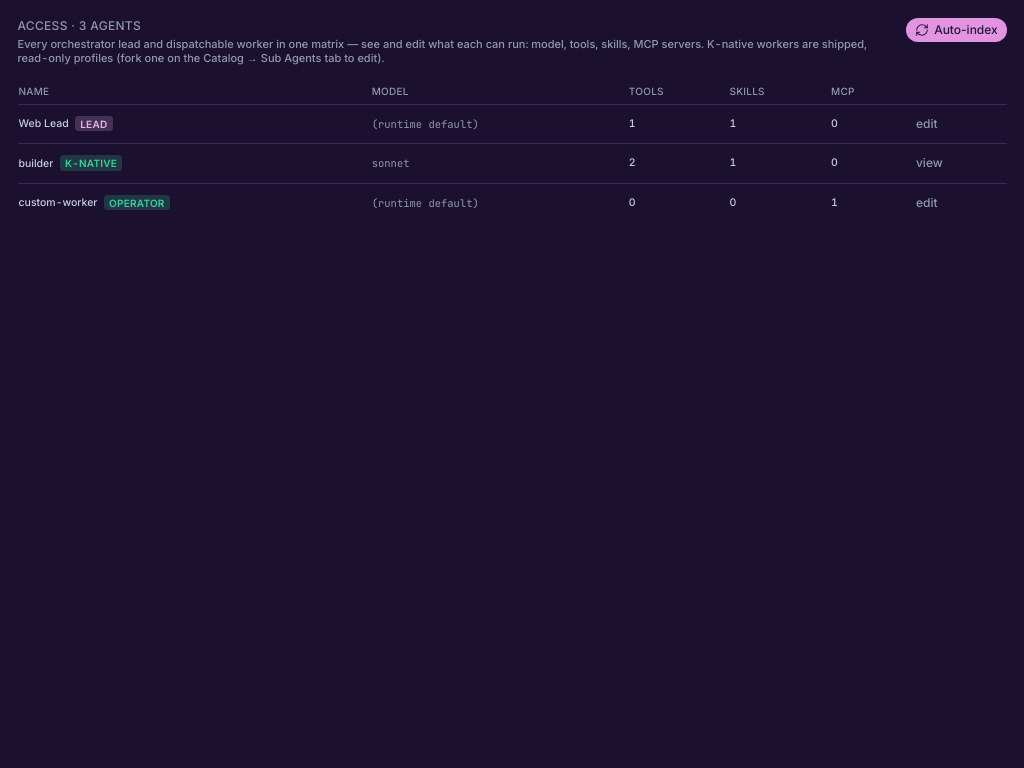
Test: AccessPage — expandable inline editor for an operator worker row › expanding shows the model Select + Skills/MCP pickers + Tools chip field, pre-filled
The width and height of the screenshot is (1024, 768).
Click the button with test id "access-expand-op-1" at point(927, 203), box 907,190 -> 946,215
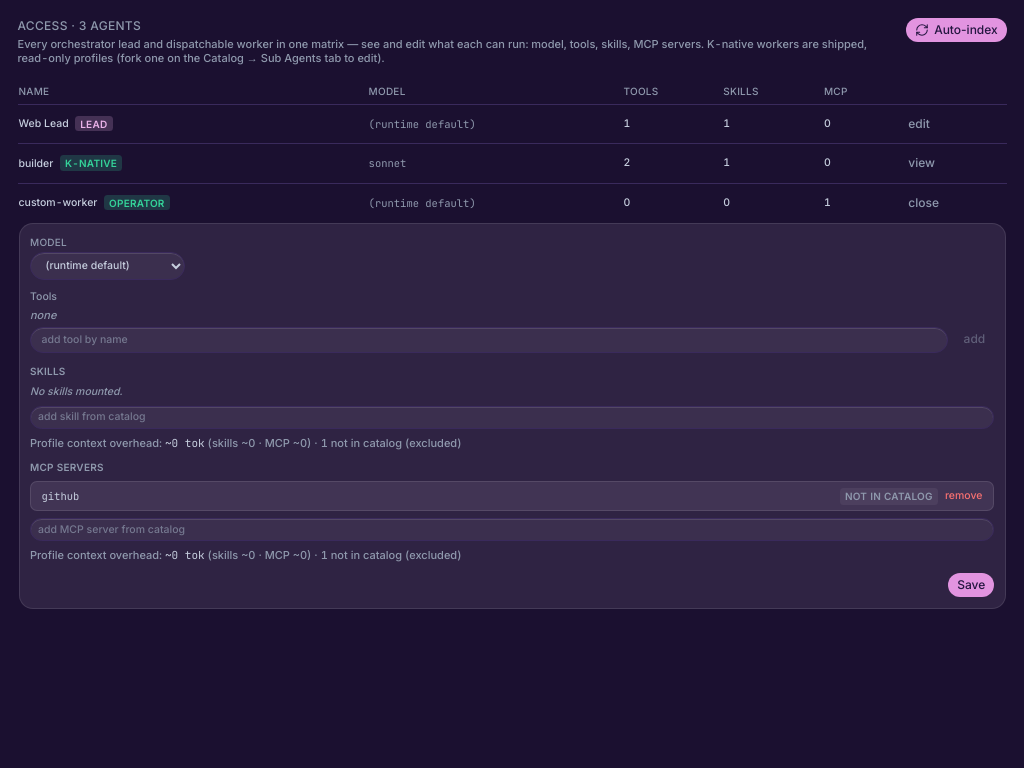
Now the row with test id "access-row-expanded-op-1" is shown, box 18,222 -> 1006,623
Now the dropdown with test id "access-model-op-1" is shown, box 30,252 -> 184,280
Now the element with test id "access-skills-op-1-panel" is shown, box 30,364 -> 994,450
